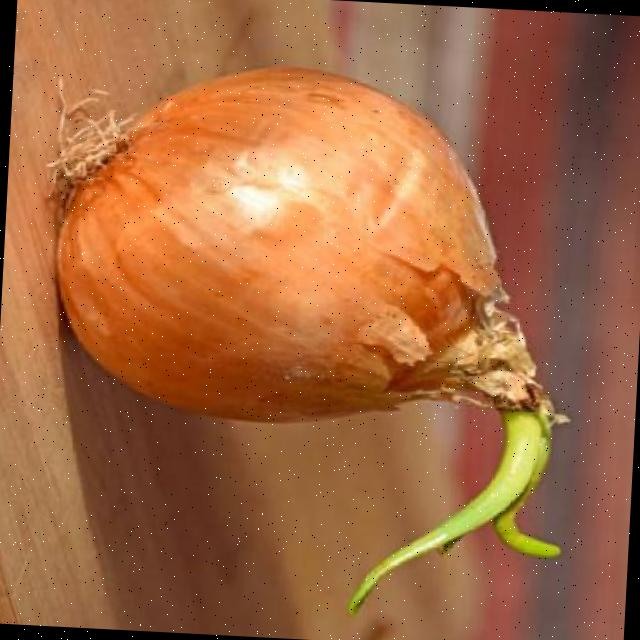Onion: (47, 67, 553, 422)
